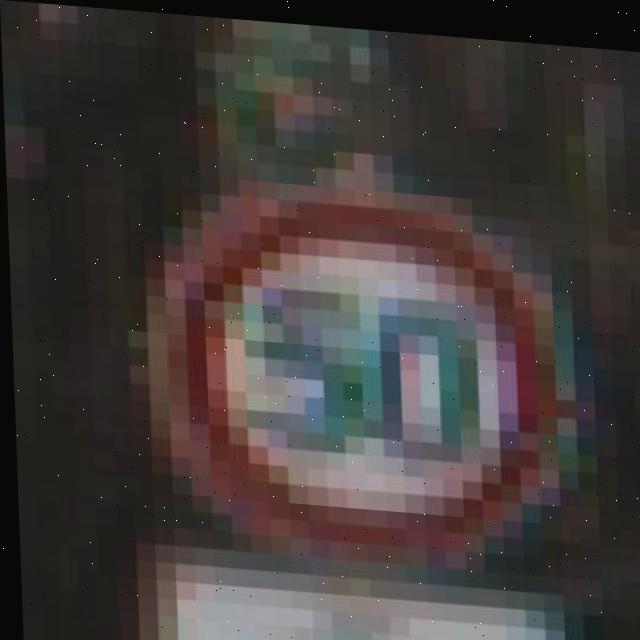Speed limit 50: (137, 149, 581, 575)
